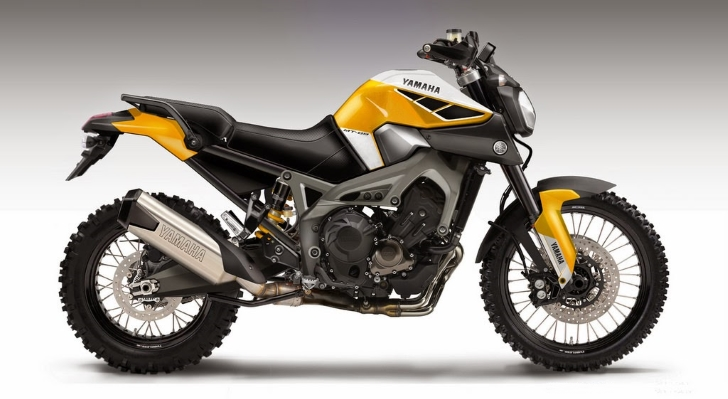bike: (70, 29, 671, 363)
